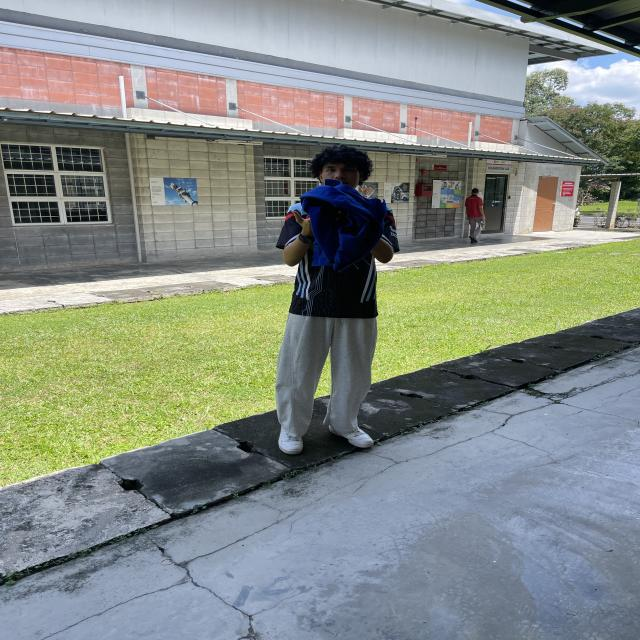person_without_labcoat: (276, 145, 399, 455)
